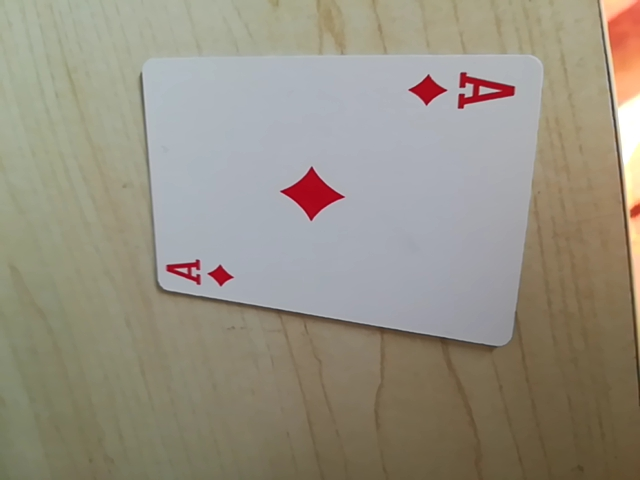fk a: (409, 66, 517, 115), (163, 251, 241, 294)
